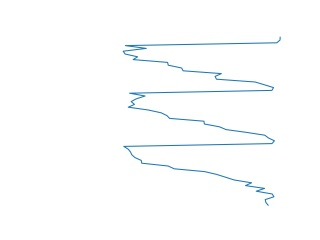distributaryMouthBar: (121, 37, 281, 210)
